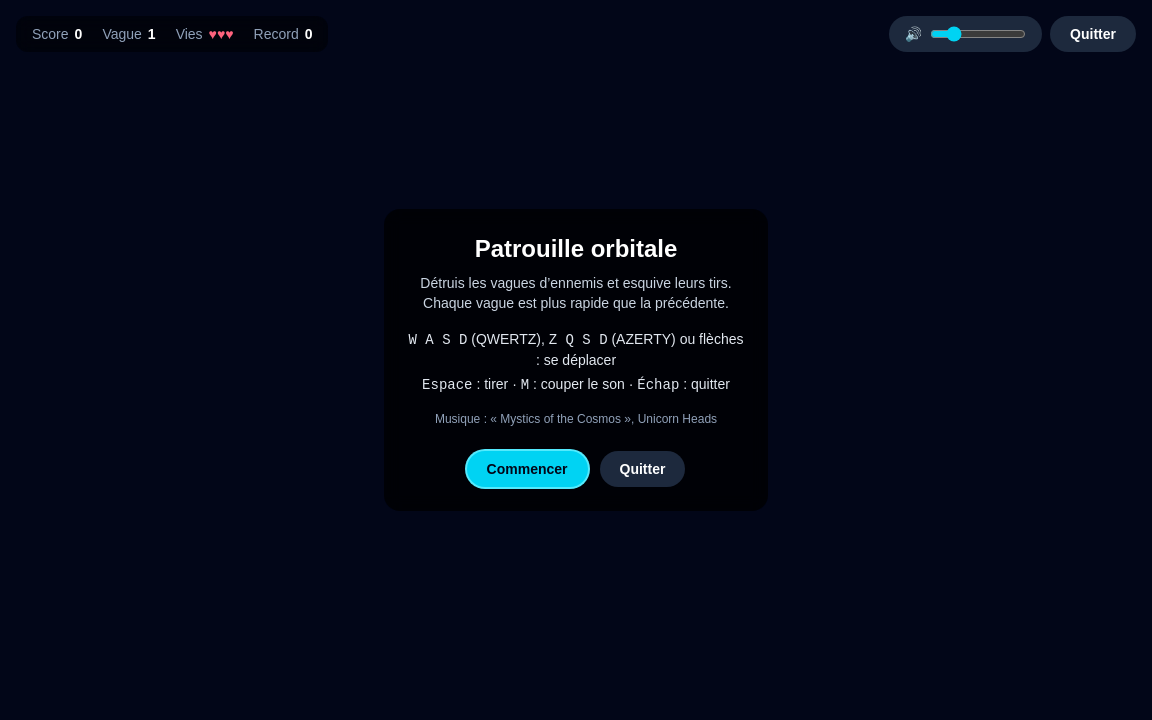
Test case: GameOverlay › coupe et remet le son avec la touche M, et s’en souvient
Click the button "Commencer" at (527, 469), box [467, 451, 588, 487]
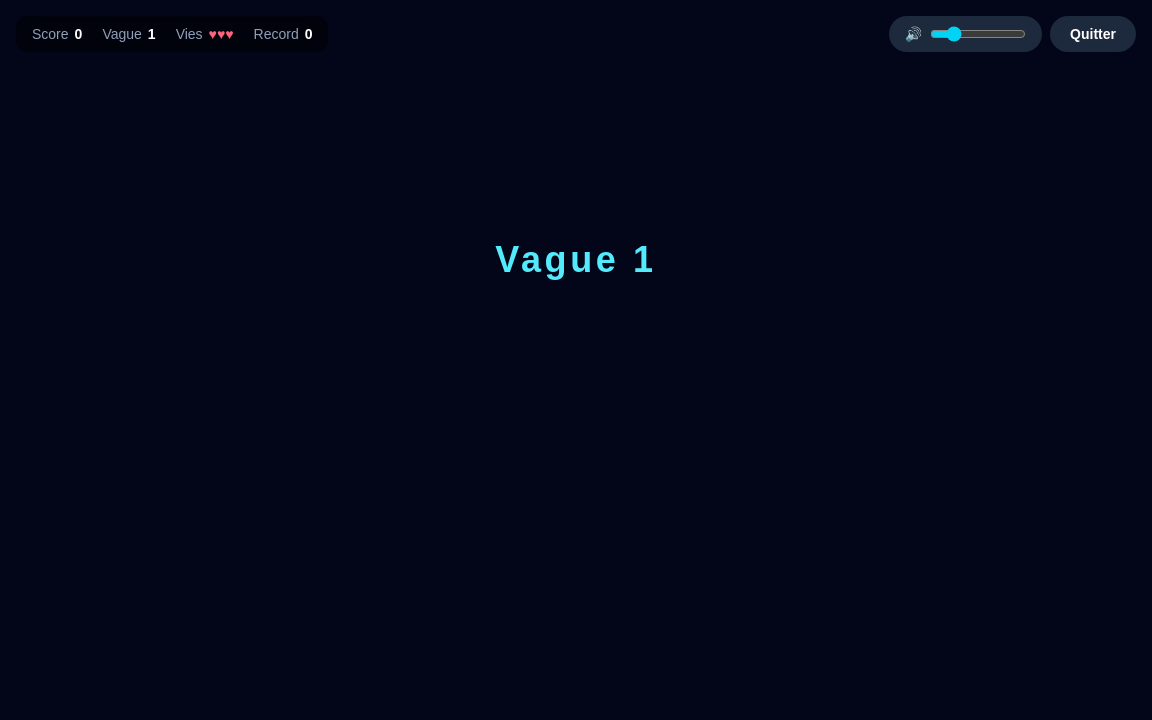
Type keys "m"
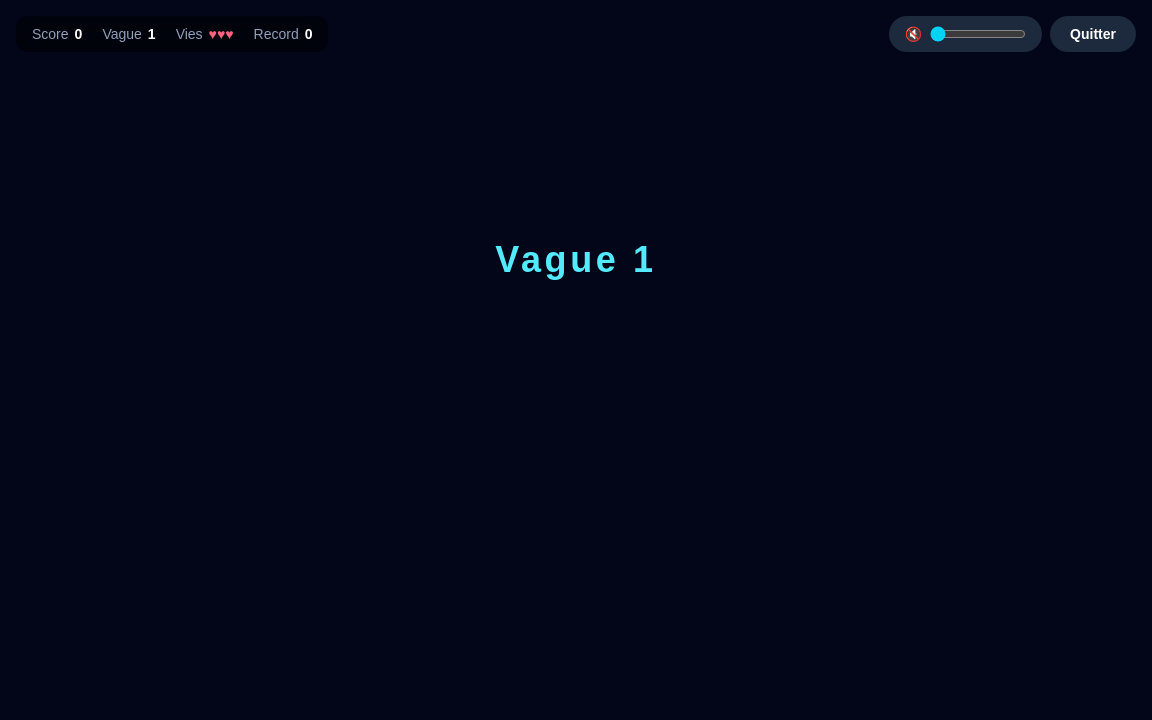
Expected: the slider named "Volume de la musique" holds "0", [930, 26, 1026, 42]
Type keys "m"
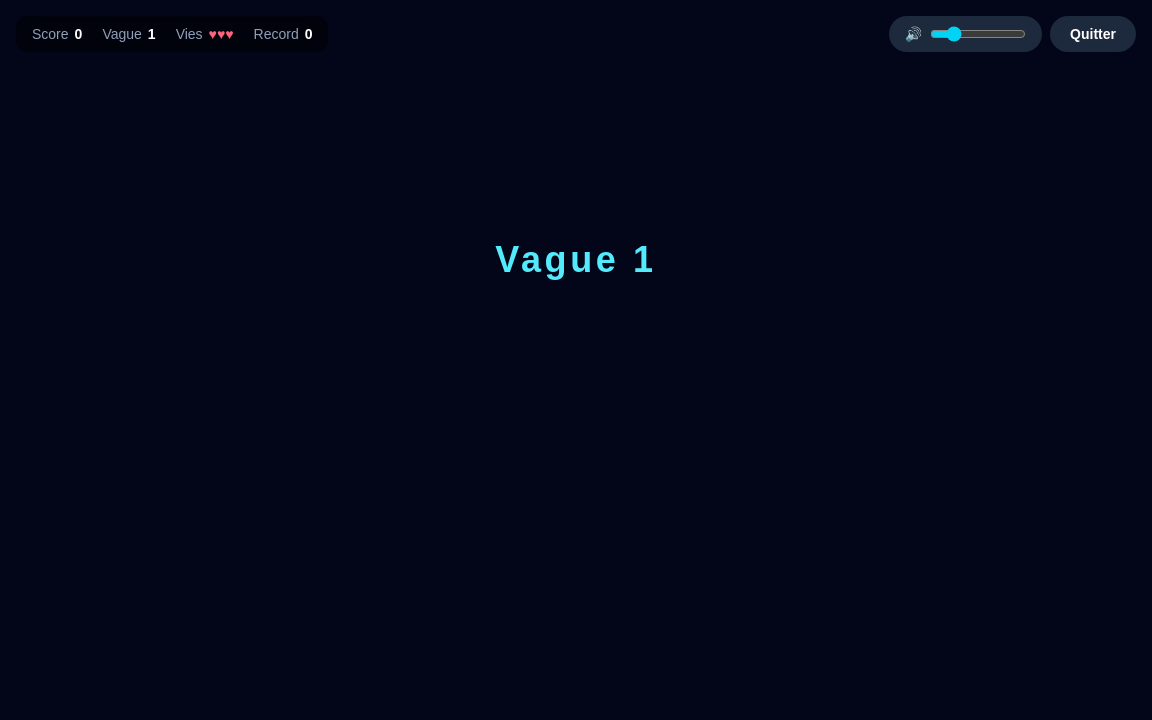
Expected: the slider named "Volume de la musique" holds "0.2", [930, 26, 1026, 42]
